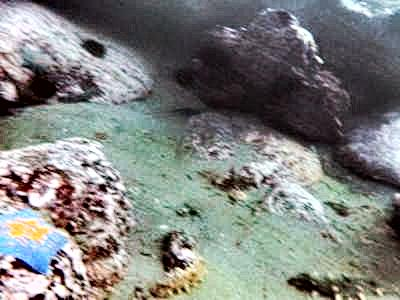urchin: (82, 39, 105, 57)
